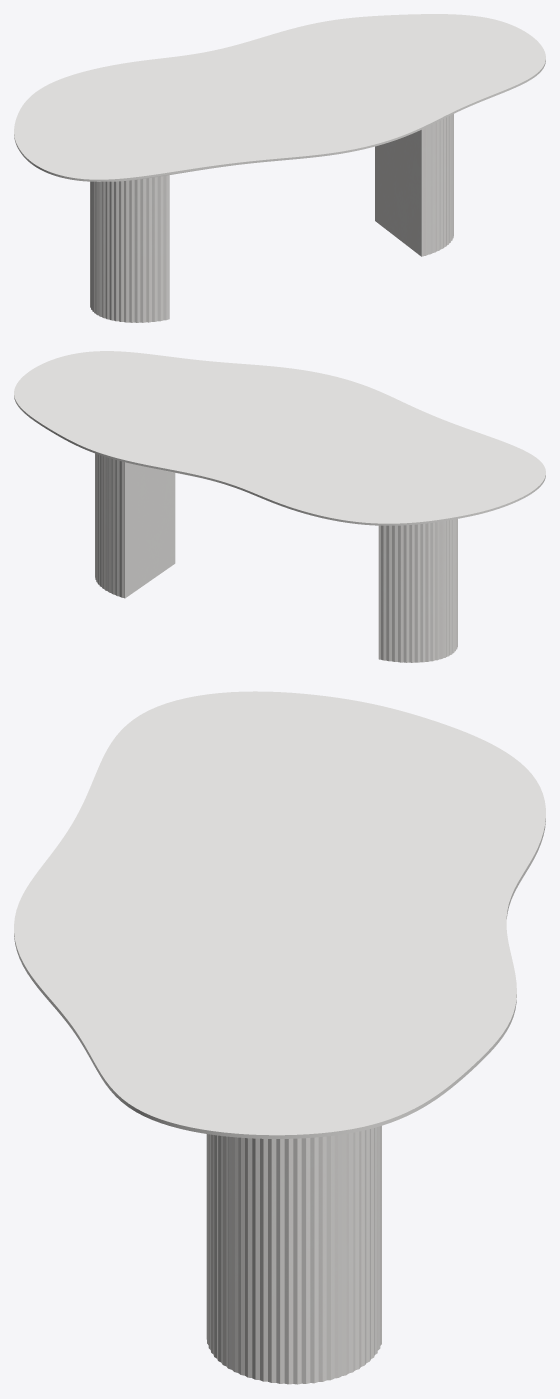
Rendered from purewhite_toplast_facet_flute.glb.
3 views of the same model, one above another, from view 1: azimuth 30°, elevation 25°; view 2: azimuth 150°, elevation 25°; view 3: azimuth 270°, elevation 25° (orthographic). The views are drawn at different scales.
Parts seen in each view (by area): view 1: facet_toplast, flute; view 2: facet_toplast, flute; view 3: facet_toplast, flute.
Part boxes in pixels (box(x1,y1,x2,y2)): facet_toplast: box(14, 14, 545, 181); flute: box(90, 114, 453, 322); facet_toplast: box(14, 351, 545, 525); flute: box(95, 453, 457, 662); facet_toplast: box(14, 691, 545, 1138); flute: box(206, 1126, 381, 1384).
Bounding box in the file's own units: 7.5 × 2.5 × 3.8.
Materials: 1 (1 with a texture image).
